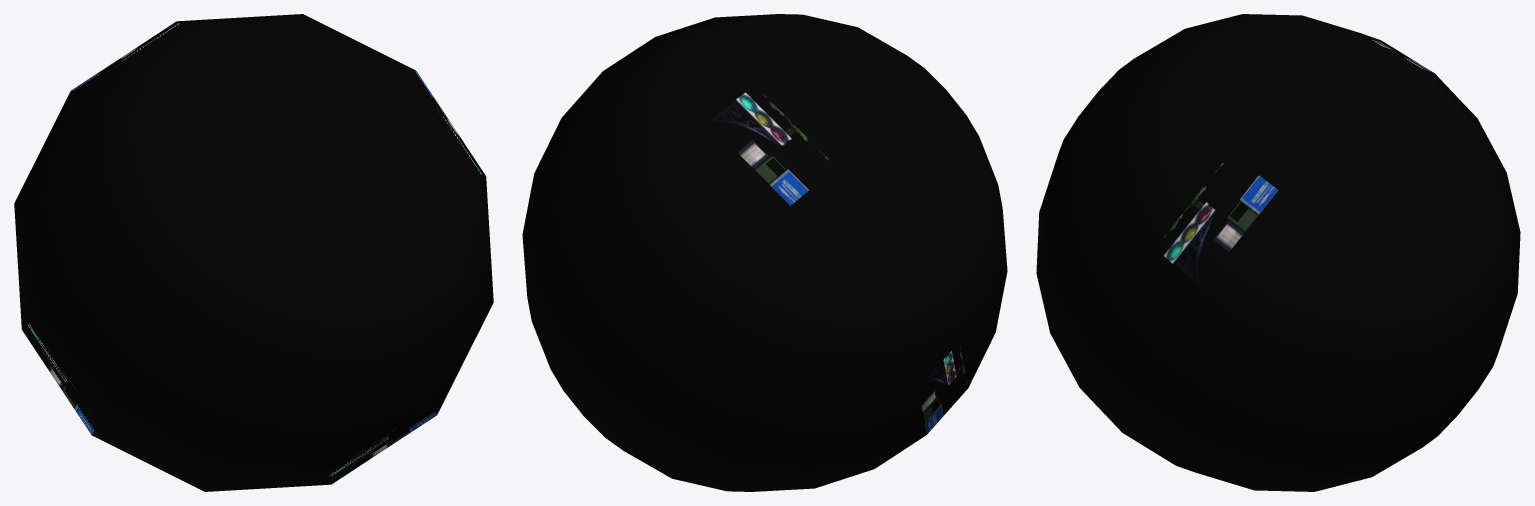
The picture shows the model from 3 angles, left to right: view 1: azimuth 30°, elevation 25°; view 2: azimuth 150°, elevation 25°; view 3: azimuth 270°, elevation 25°; orthographic projection.
Visible parts, largest first — view 1: Joint_0_Object_0; view 2: Joint_0_Object_0; view 3: Joint_0_Object_0.
Boxes of the visible parts, left/top/right/bottom form: Joint_0_Object_0: left=14, top=14, right=493, bottom=491; Joint_0_Object_0: left=522, top=14, right=1007, bottom=491; Joint_0_Object_0: left=1036, top=14, right=1520, bottom=491.
Bounding box in the file's own units: 298 × 295 × 299.
